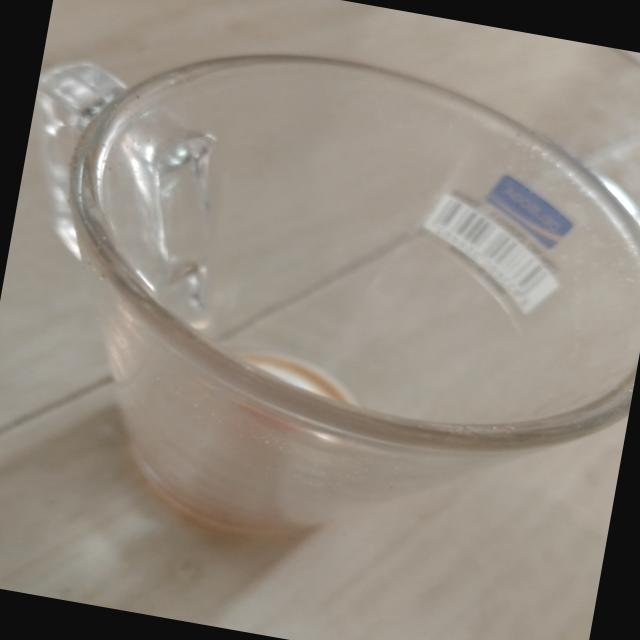glass-VX4N: (0, 5, 640, 604)
